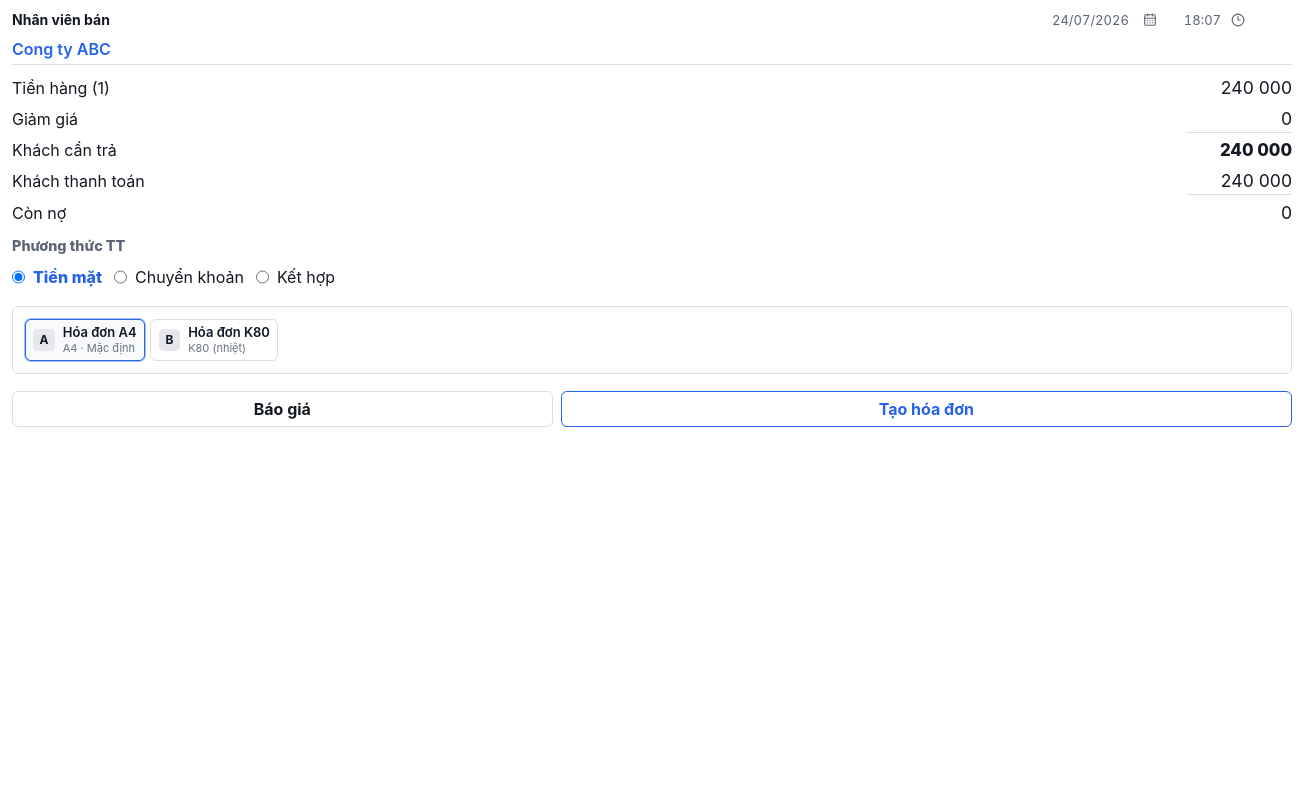
Test: blocks rapid double checkout before the submitting state rerenders
This screenshot has width=1304, height=812.
What coordinates should you click on to do the following:
click the button "Tạo hóa đơn"
I would click on:
 (926, 409)
Its box is [561,391,1292,427].
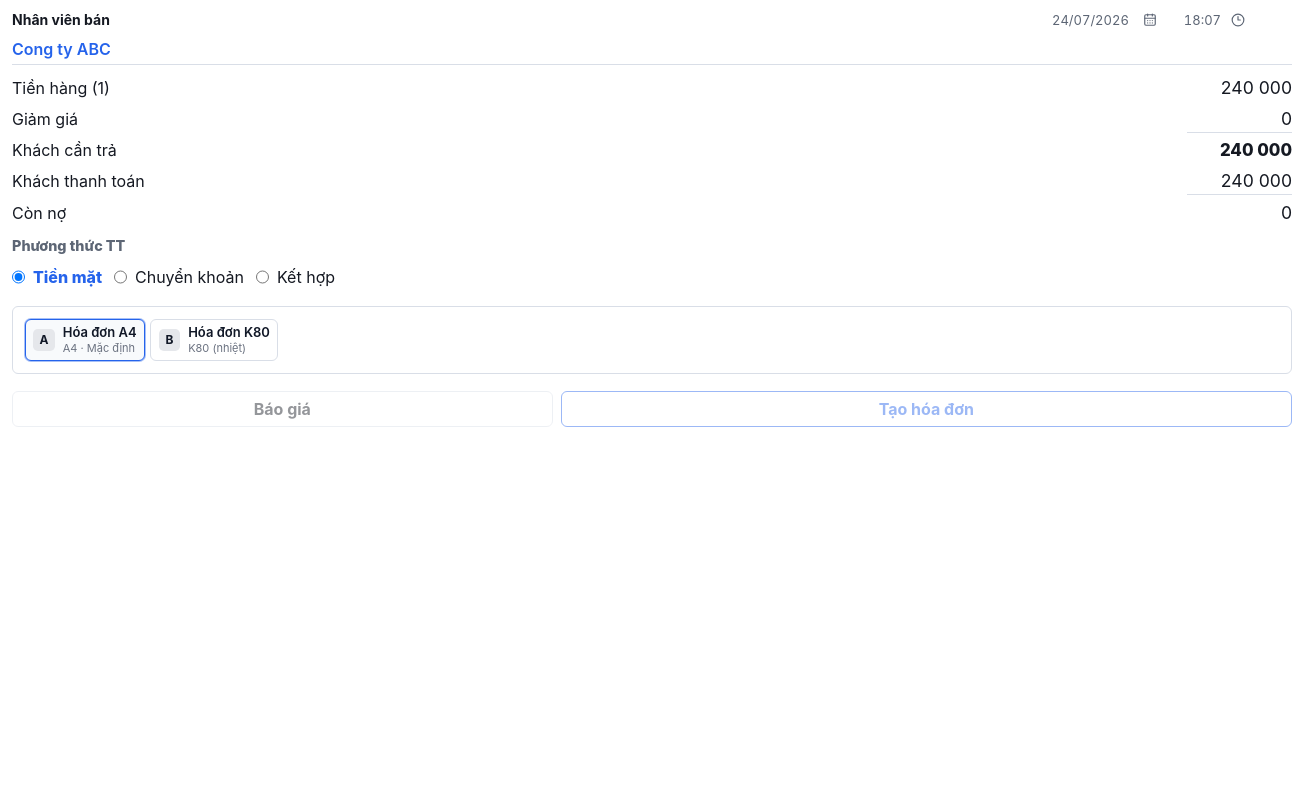
What coordinates should you click on to do the following:
click the button "Tạo hóa đơn"
I would click on:
 (926, 409)
Its box is [561,391,1292,427].
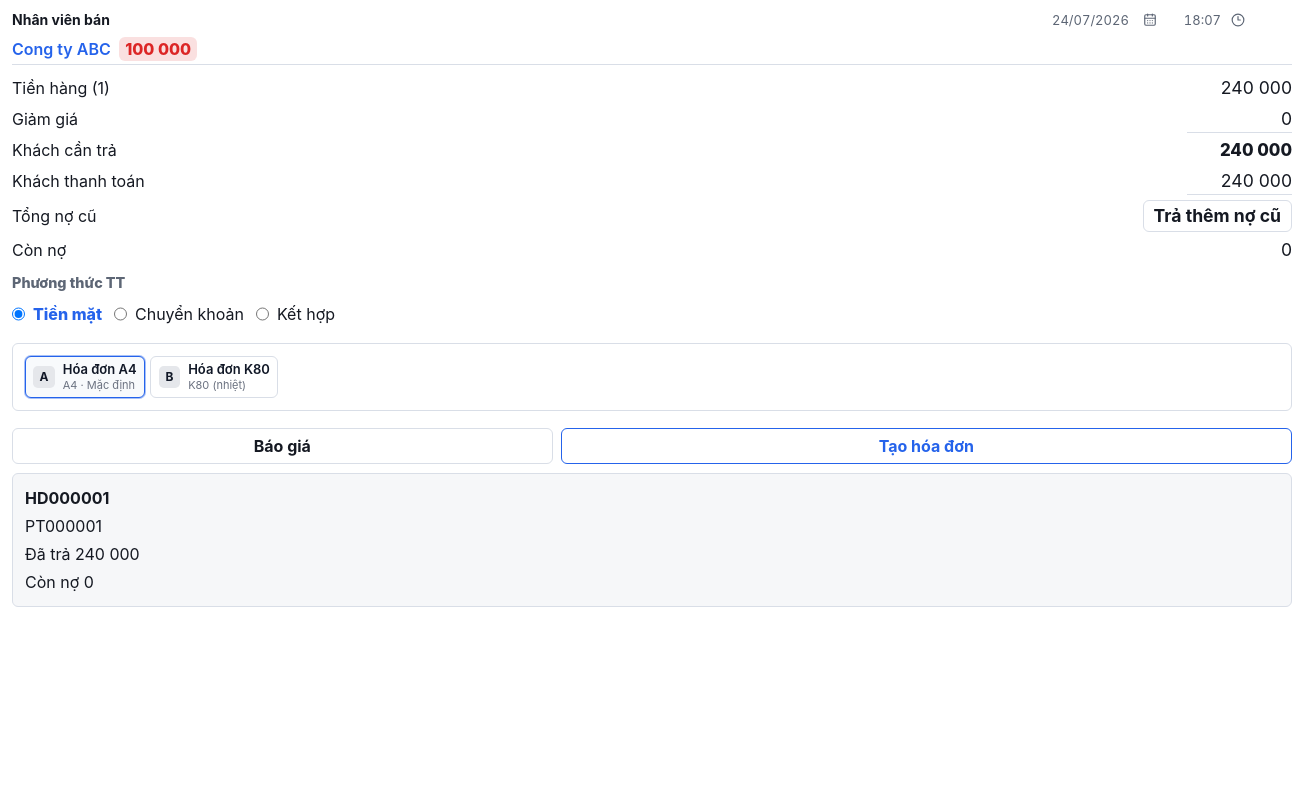
Expected: the text "HD000001" is shown, [25,488,109,508]
